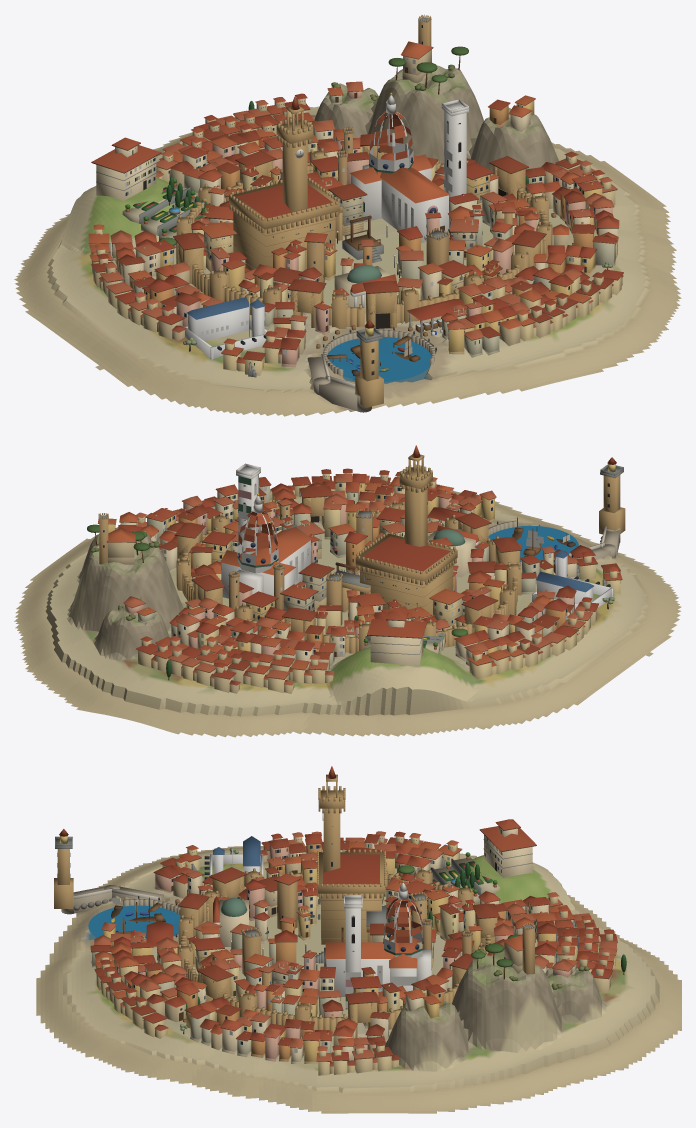
3 views of the same model, one above another, from view 1: azimuth 30°, elevation 25°; view 2: azimuth 150°, elevation 25°; view 3: azimuth 270°, elevation 25° (orthographic). The views are drawn at different scales.
Parts seen in each view (by area): view 1: BASE, VILLE_2, VILLE_3, VILLE_4; view 2: BASE, VILLE_2, VILLE_3, VILLE_4; view 3: BASE, VILLE_3, VILLE_2, VILLE_4.
Boxes of the visible parts, x1,y1,x2,y2 form: BASE: (14, 62, 681, 416); VILLE_2: (89, 46, 617, 377); VILLE_3: (88, 14, 623, 380); VILLE_4: (333, 198, 397, 313); BASE: (14, 445, 681, 737); VILLE_2: (87, 468, 620, 693); VILLE_3: (98, 469, 622, 693); VILLE_4: (333, 525, 479, 612); BASE: (36, 766, 681, 1113); VILLE_3: (111, 831, 617, 1075); VILLE_2: (94, 831, 617, 1061); VILLE_4: (213, 896, 386, 946).
Bounding box in the file's own units: 71.5 × 22.48 × 75.
